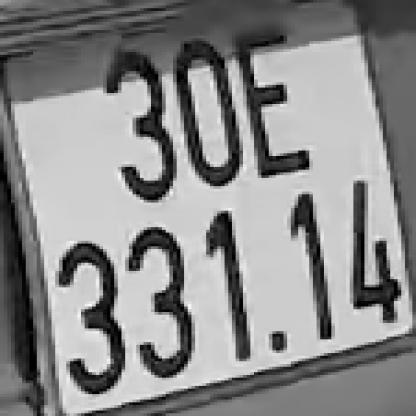0: (173, 41, 239, 189)
1: (268, 189, 338, 328), (195, 205, 258, 353)
3: (99, 49, 173, 203), (133, 227, 195, 372), (66, 244, 125, 392)
4: (335, 178, 409, 320)
E: (232, 22, 309, 175)
